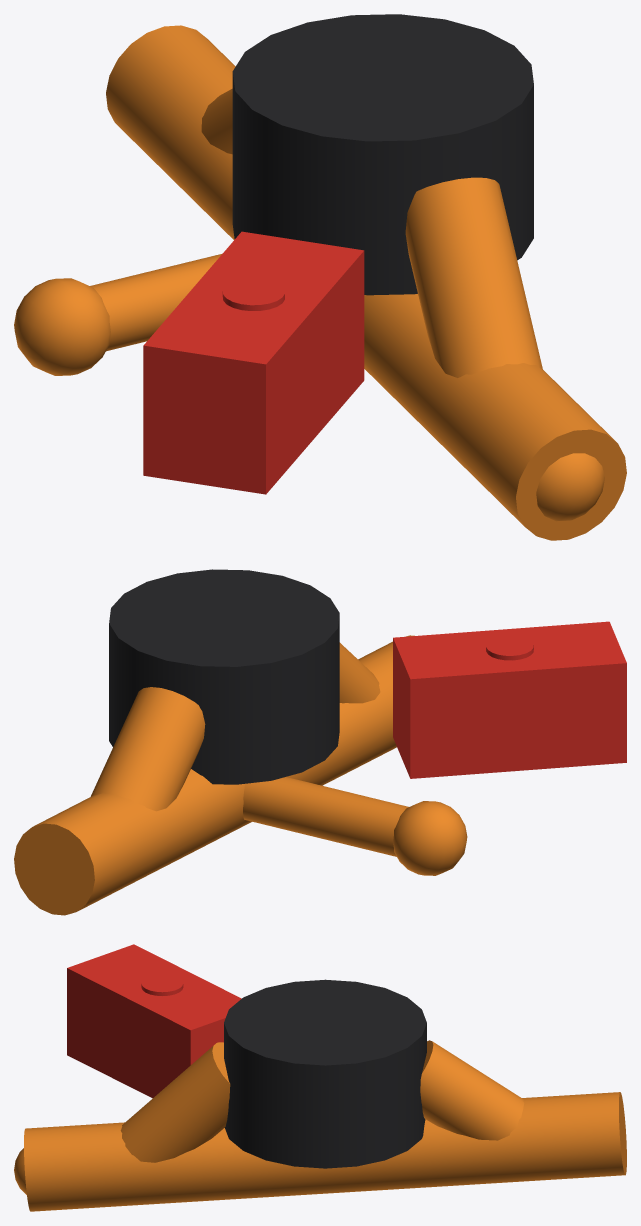
File: rl_upright.gltf
3 renders of one model, top to bottom at view 1: azimuth 30°, elevation 25°; view 2: azimuth 150°, elevation 25°; view 3: azimuth 270°, elevation 25°, orthographic. The views are drawn at different scales.
Parts seen in each view (by area): view 1: rl_upright; view 2: rl_upright; view 3: rl_upright.
Boxes of the visible parts, bbox=[...] form: rl_upright: bbox=[14, 14, 626, 540]; rl_upright: bbox=[14, 569, 626, 915]; rl_upright: bbox=[14, 944, 626, 1211].
Size of the model in its own units: 0.2273 by 0.1239 by 0.3503.
